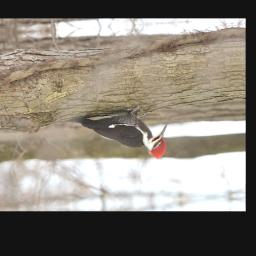Woodpecker: (57, 99, 170, 166)
